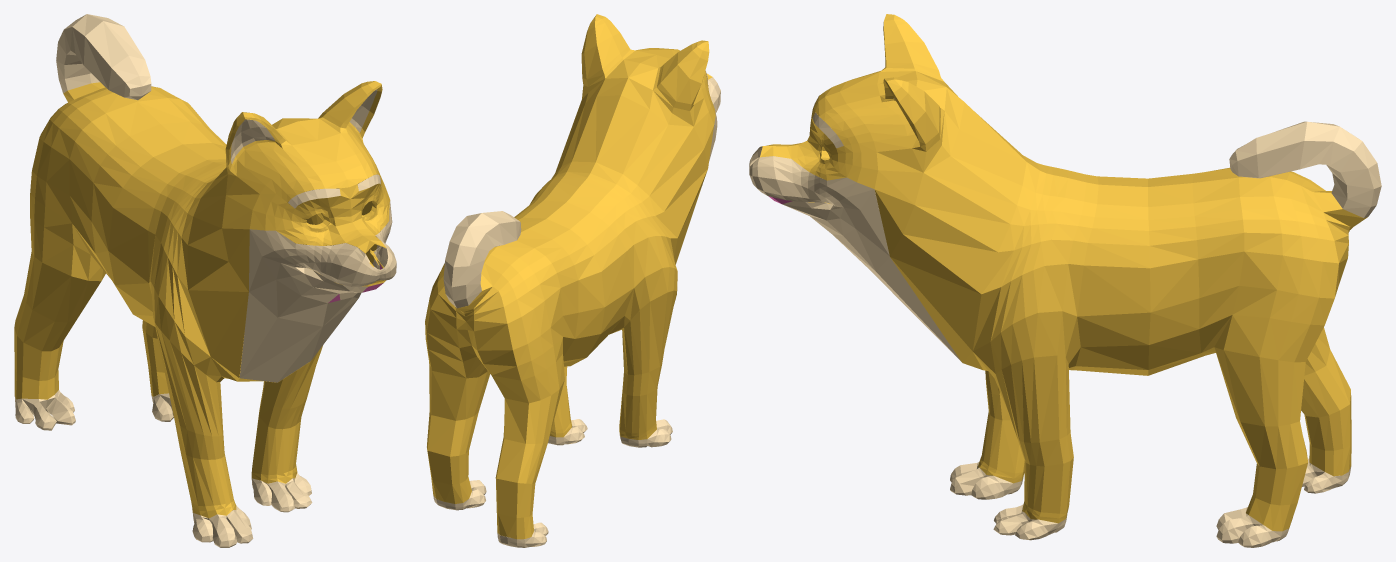
The model's file is dog.gltf.
3 views of the same model, side by side, from view 1: azimuth 30°, elevation 25°; view 2: azimuth 150°, elevation 25°; view 3: azimuth 270°, elevation 25° (orthographic). The views are drawn at different scales.
Parts seen in each view (by area): view 1: body; view 2: body; view 3: body.
Boxes of the visible parts, x1=… form: body: x1=14, y1=14, x2=396, y2=547; body: x1=425, y1=14, x2=720, y2=547; body: x1=749, y1=14, x2=1381, y2=547.
Size of the model in its own units: 0.7283 by 1.83 by 2.28.
